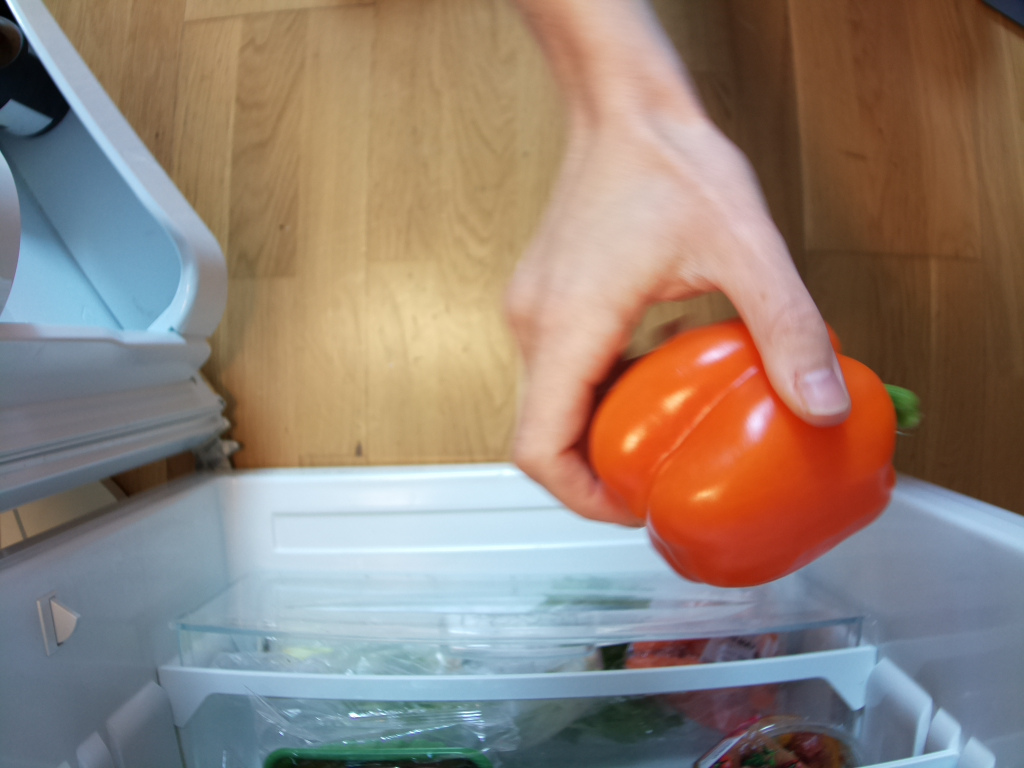pepper: (588, 316, 922, 587)
